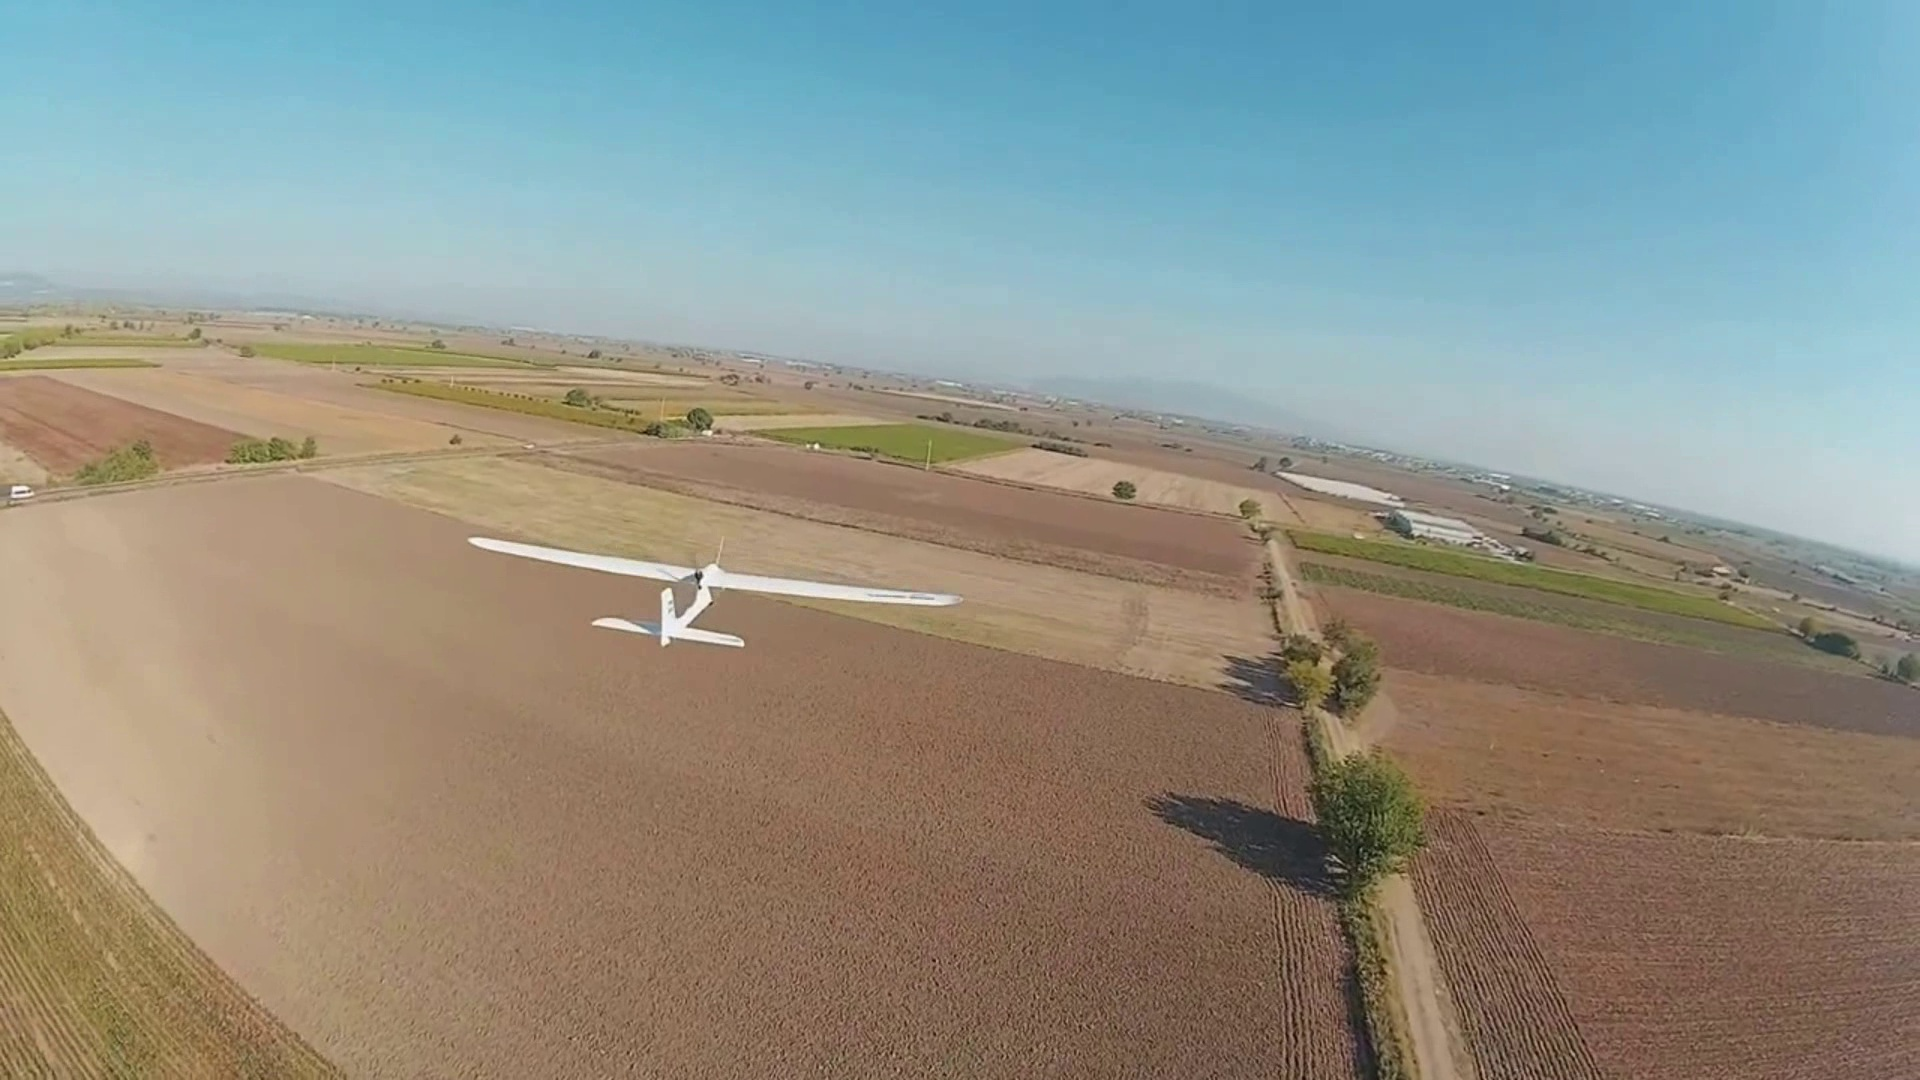airplane: (469, 530, 960, 651), (589, 560, 746, 649)
